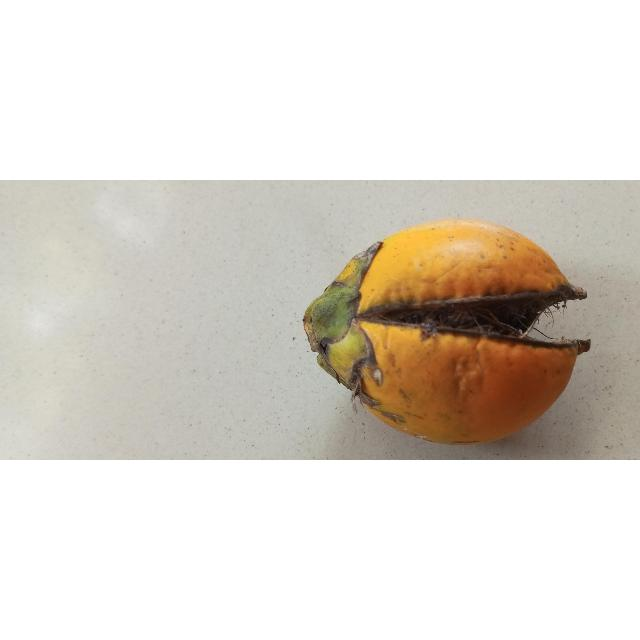damaged: (303, 220, 590, 444)
